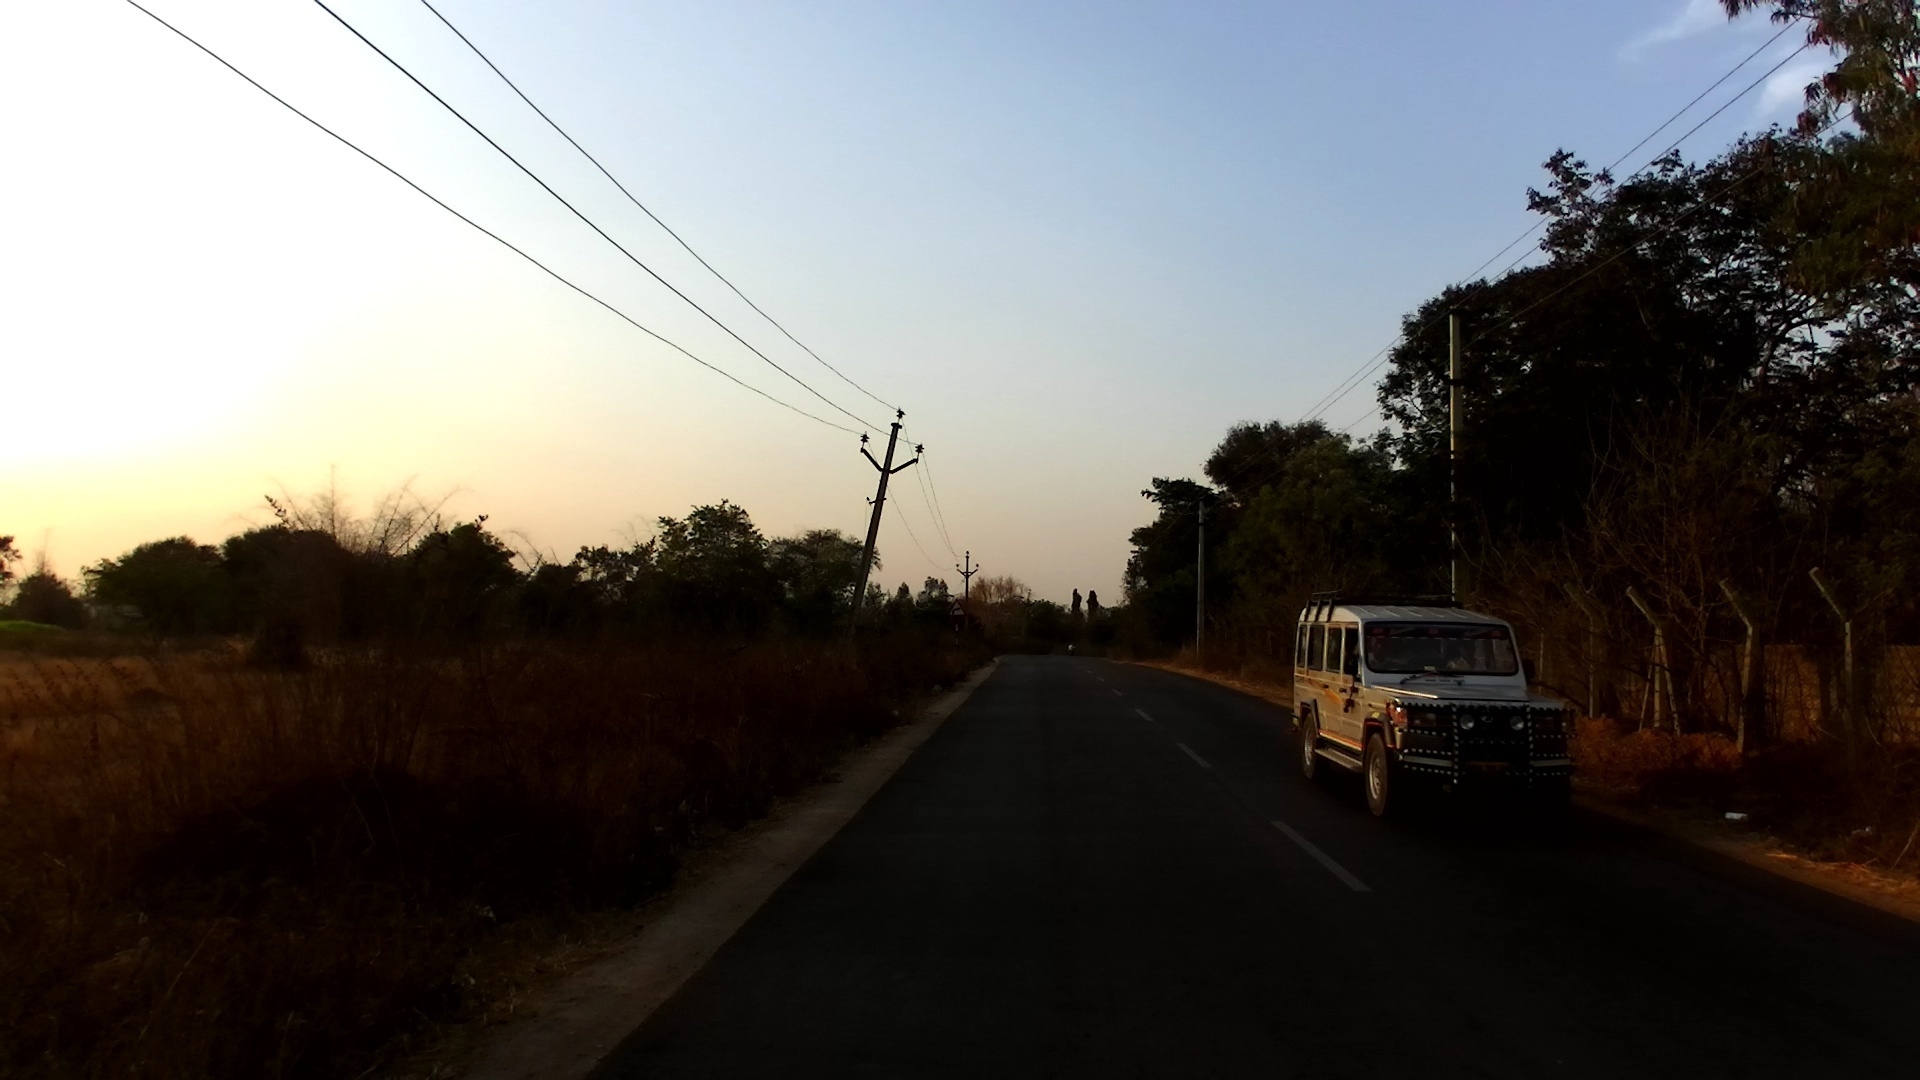car: (1293, 586, 1581, 845)
rider: (1065, 639, 1078, 655)
